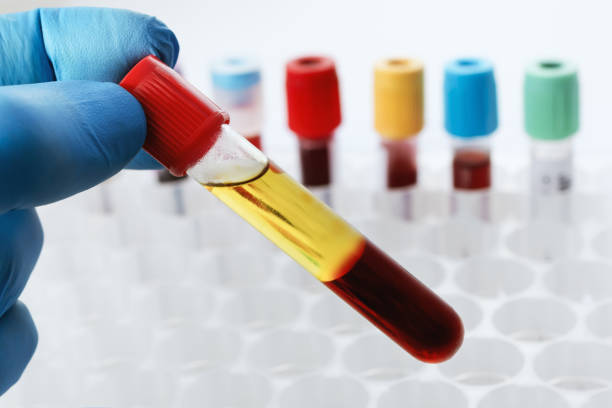blood: (319, 236, 467, 367), (451, 148, 499, 192), (294, 146, 332, 188), (386, 148, 418, 188), (245, 131, 263, 152)
